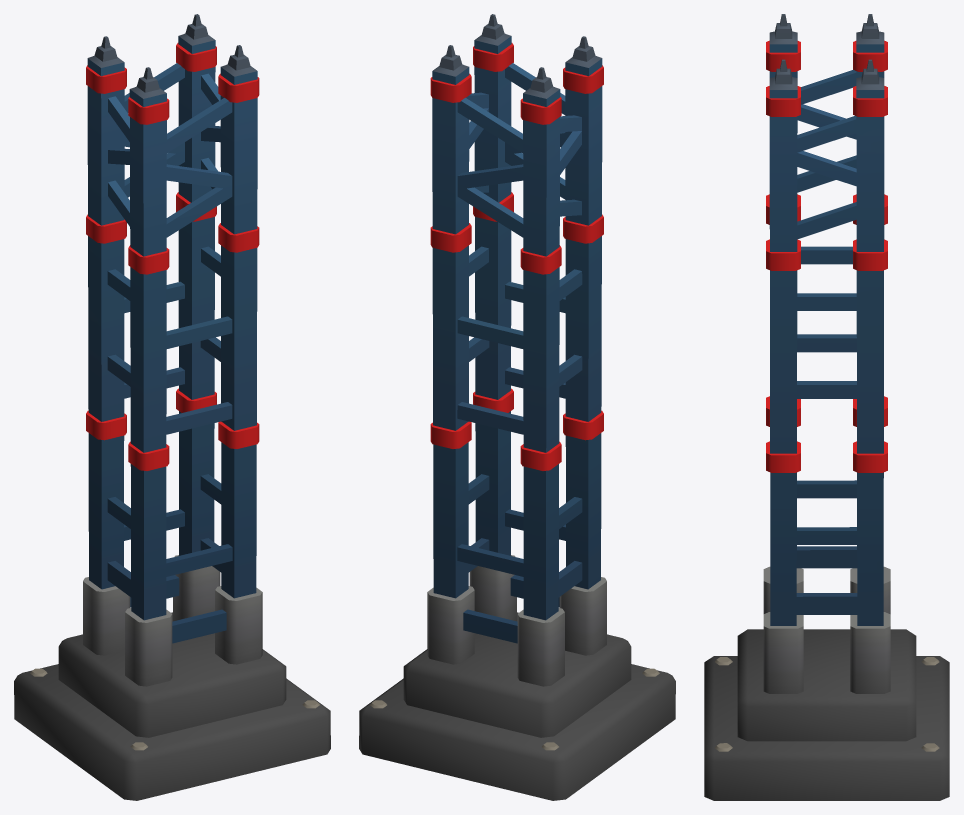
Rendered from SignalTower_2_E.fbx.
3 renders of one model, left to right at view 1: azimuth 30°, elevation 25°; view 2: azimuth 150°, elevation 25°; view 3: azimuth 270°, elevation 25°, orthographic. The views are drawn at different scales.
Visible parts, largest first — view 1: SignalTower_2_E; view 2: SignalTower_2_E; view 3: SignalTower_2_E.
Part boxes in pixels (left/top/right/bottom): SignalTower_2_E: left=14, top=14, right=330, bottom=800; SignalTower_2_E: left=359, top=14, right=675, bottom=800; SignalTower_2_E: left=704, top=14, right=949, bottom=800.
Bounding box in the file's own units: 96.58 × 309 × 96.56.
